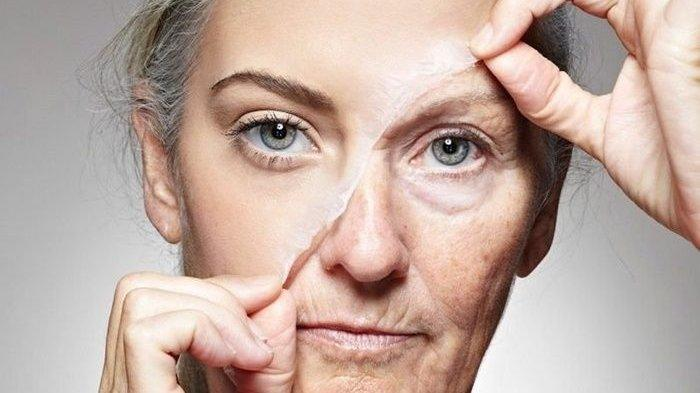Dry-Skin: (246, 168, 377, 306), (357, 48, 481, 109), (428, 228, 506, 314), (327, 364, 459, 393), (488, 99, 536, 167)
